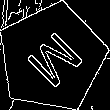M_SE: (17, 24, 86, 91)
